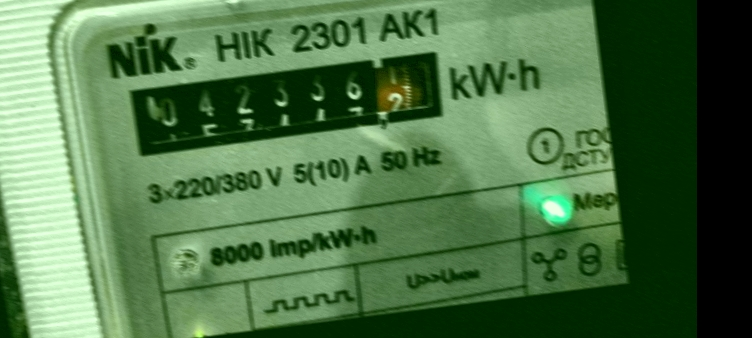0: (155, 95, 178, 130)
1: (383, 61, 398, 88)
2: (230, 81, 255, 117), (383, 91, 403, 114)
3: (267, 76, 288, 110), (305, 71, 326, 105)
4: (194, 86, 215, 120)
6: (340, 68, 364, 104)
screen: (115, 37, 458, 169)
